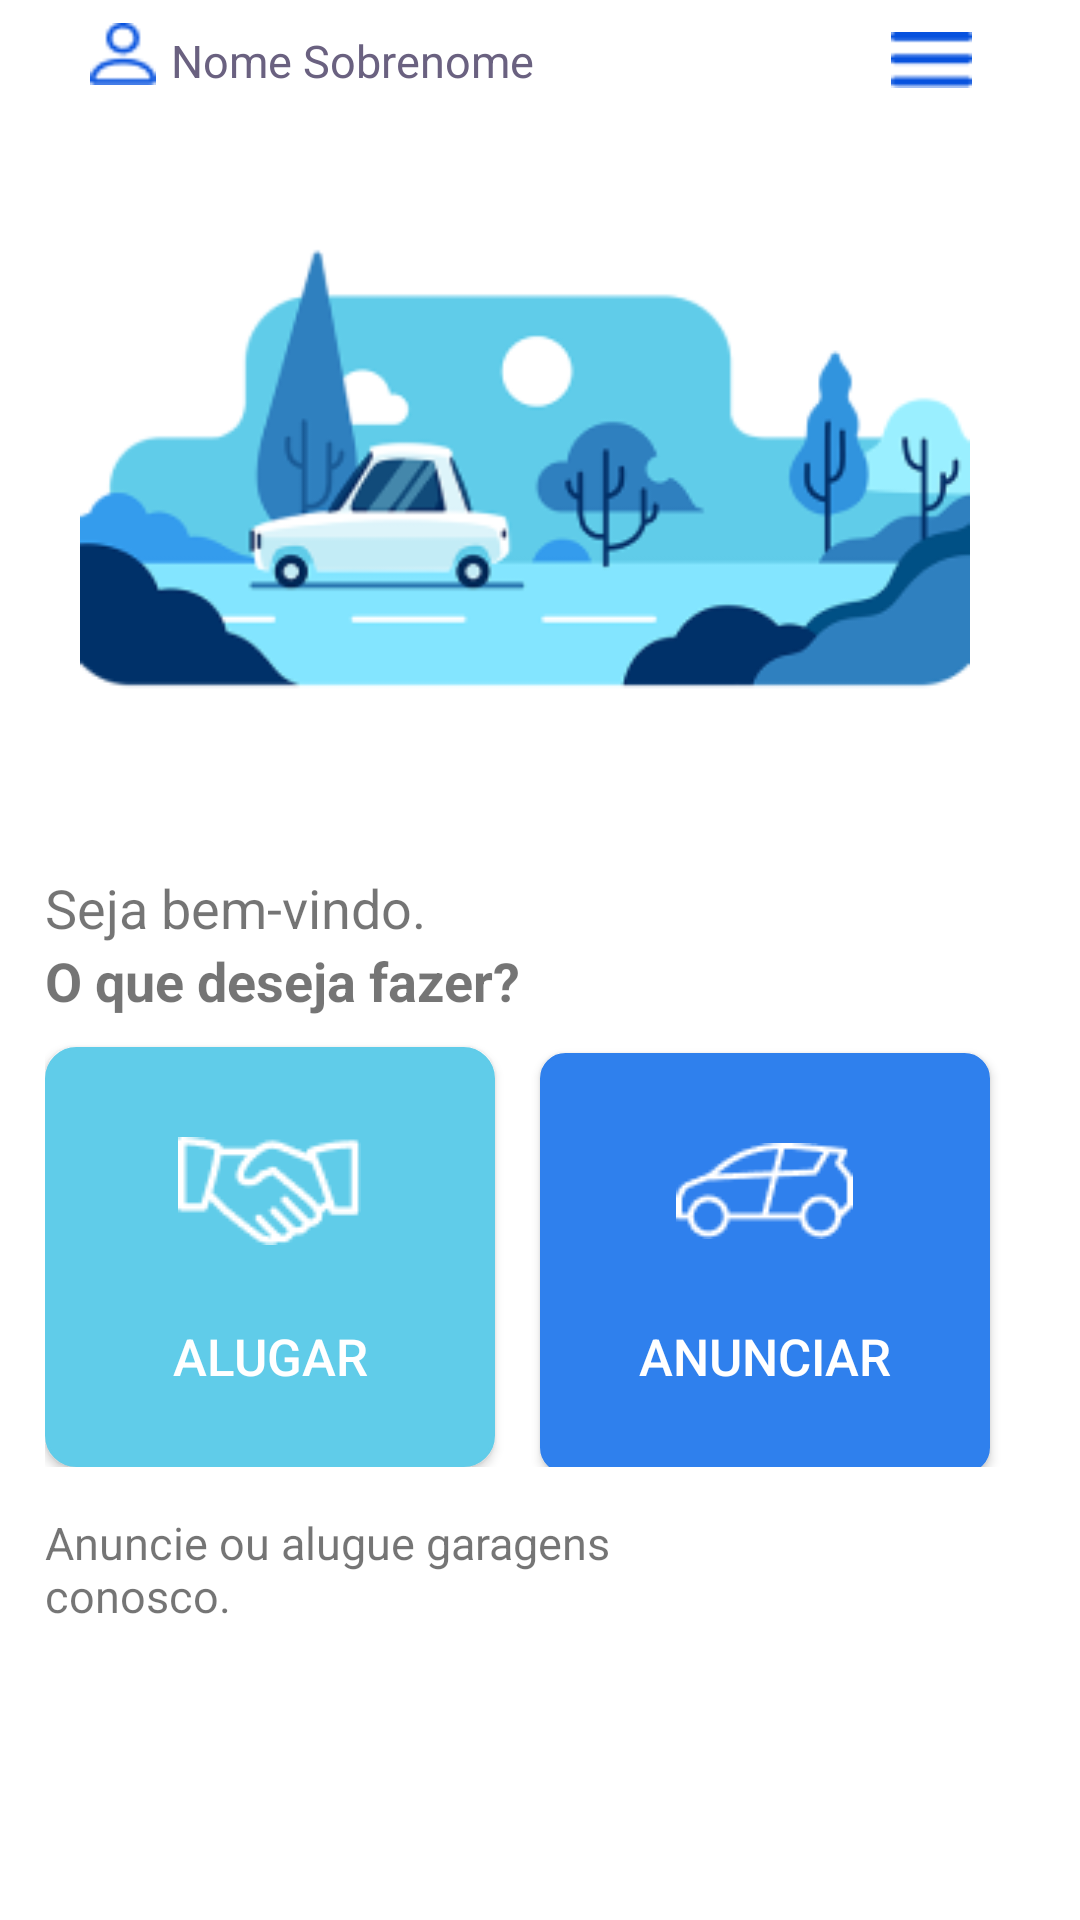

Named icons in this screenshot (1080x1920) and their bounding boxes, (x1, y1, x2, y2):
menu: (891, 32, 972, 88)
usuario: (90, 23, 156, 85)
